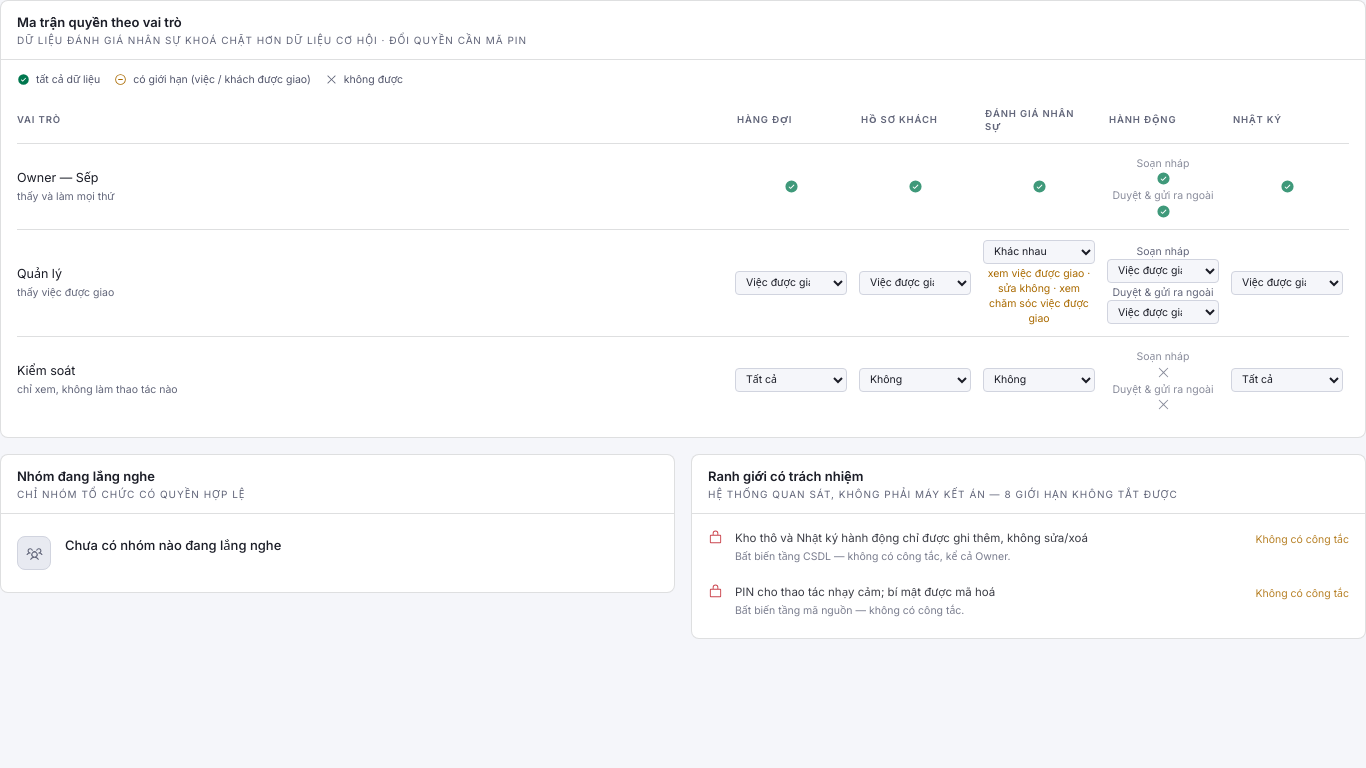
Test: Quyền hạn › ô ma trận là của cả cột (trừ Soạn nháp / Duyệt tách riêng) › cột lệch mức hiện "Khác nhau" kèm cảnh báo nói rõ quyền nào khác; chọn một mức là đồng bộ
Expected: the text with test id "roles-mixed" shows "sửa không", [988,266,1090,325]
Expected: the text with test id "roles-mixed" shows "xem việc được giao", [988,266,1090,325]
Select "Không" in the dropdown named "Quản lý · Đánh giá nhân sự". click: (1039, 252)
box: [983,240,1095,264]
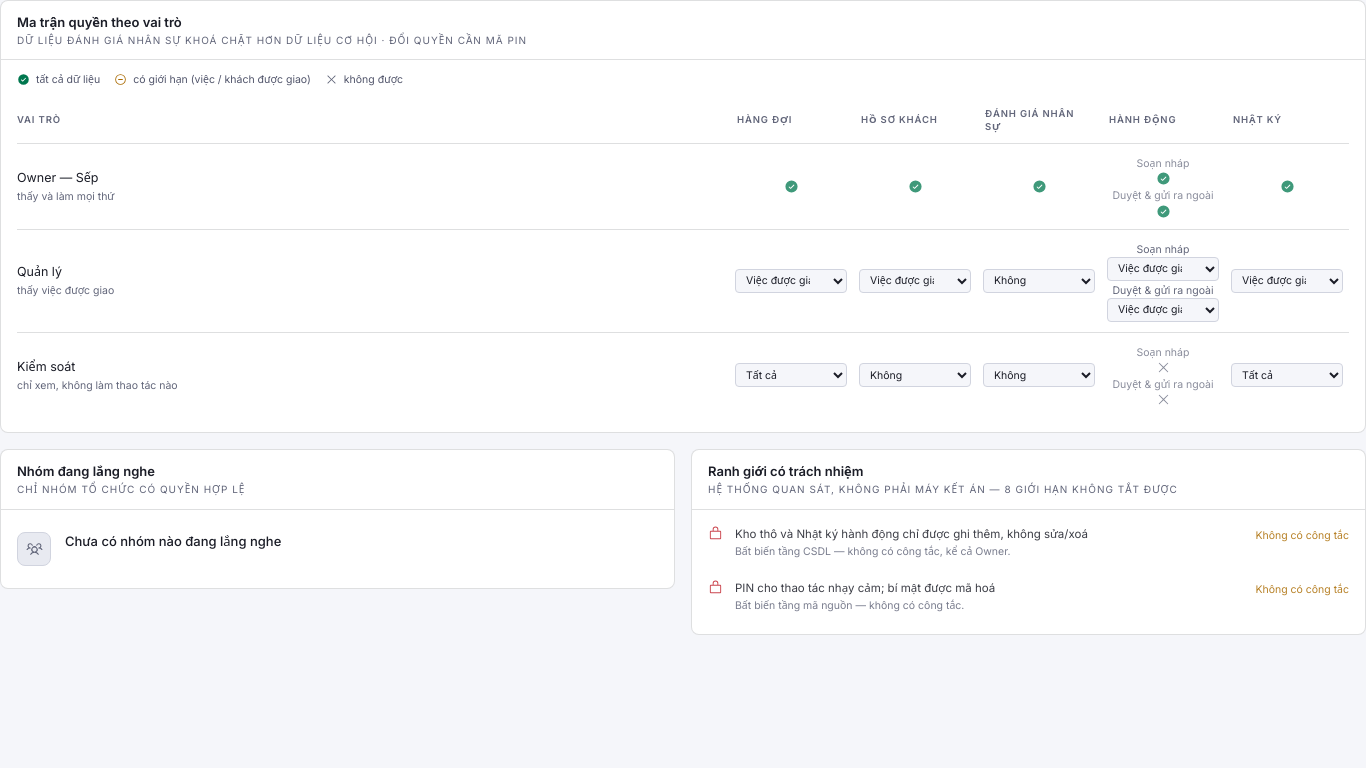
Now the text with test id "roles-mixed" is gone
